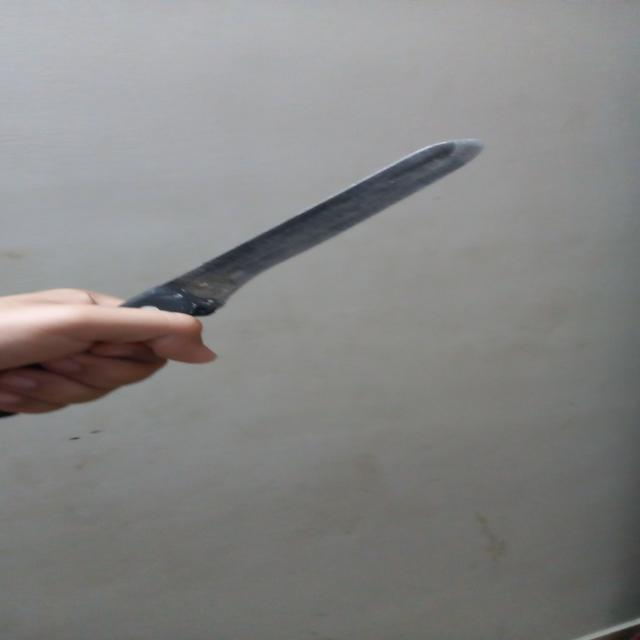Knife: (0, 137, 496, 455)
